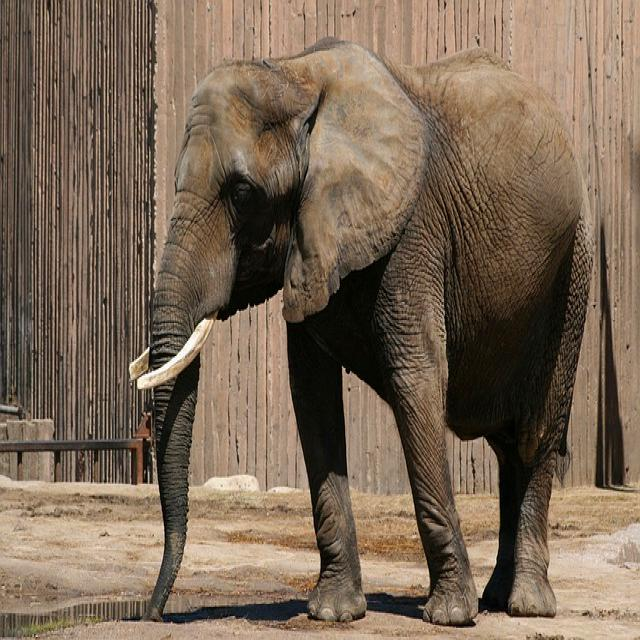FIL: (119, 30, 588, 628)
